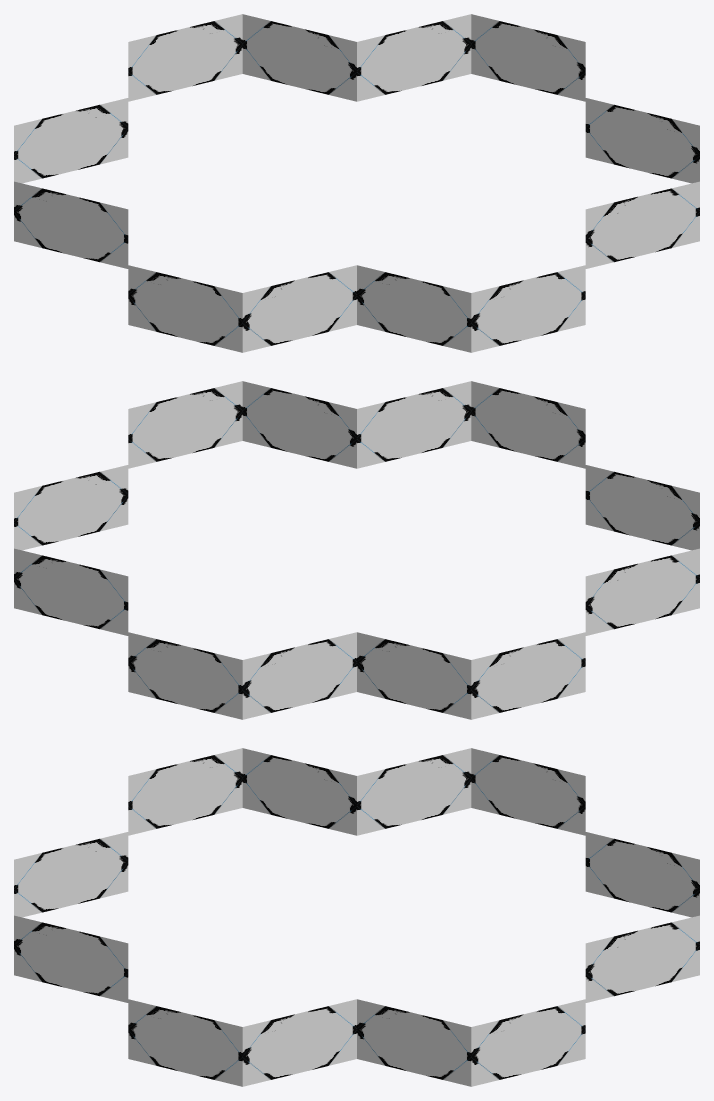
Rendered from tower_fx_mesh.fbx.
The picture shows the model from 3 angles, top to bottom: view 1: azimuth 30°, elevation 25°; view 2: azimuth 150°, elevation 25°; view 3: azimuth 270°, elevation 25°; orthographic projection.
Visible parts, largest first — view 1: tower_magic; view 2: tower_magic; view 3: tower_magic.
Boxes of the visible parts, x1=… form: tower_magic: x1=14, y1=14, x2=699, y2=352; tower_magic: x1=14, y1=381, x2=699, y2=719; tower_magic: x1=14, y1=748, x2=699, y2=1086.
Bounding box in the file's own units: 20 × 2 × 20.78.
